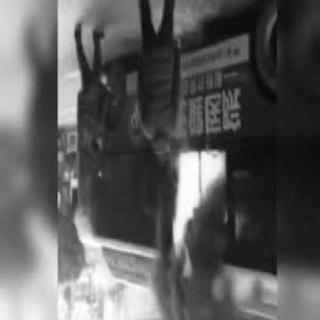Fire: (158, 144, 236, 272)
Smoke: (143, 278, 249, 310)
